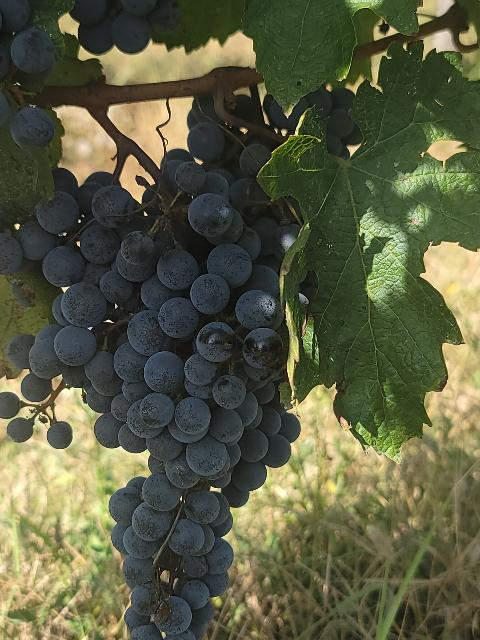grapes: (0, 120, 300, 640)
